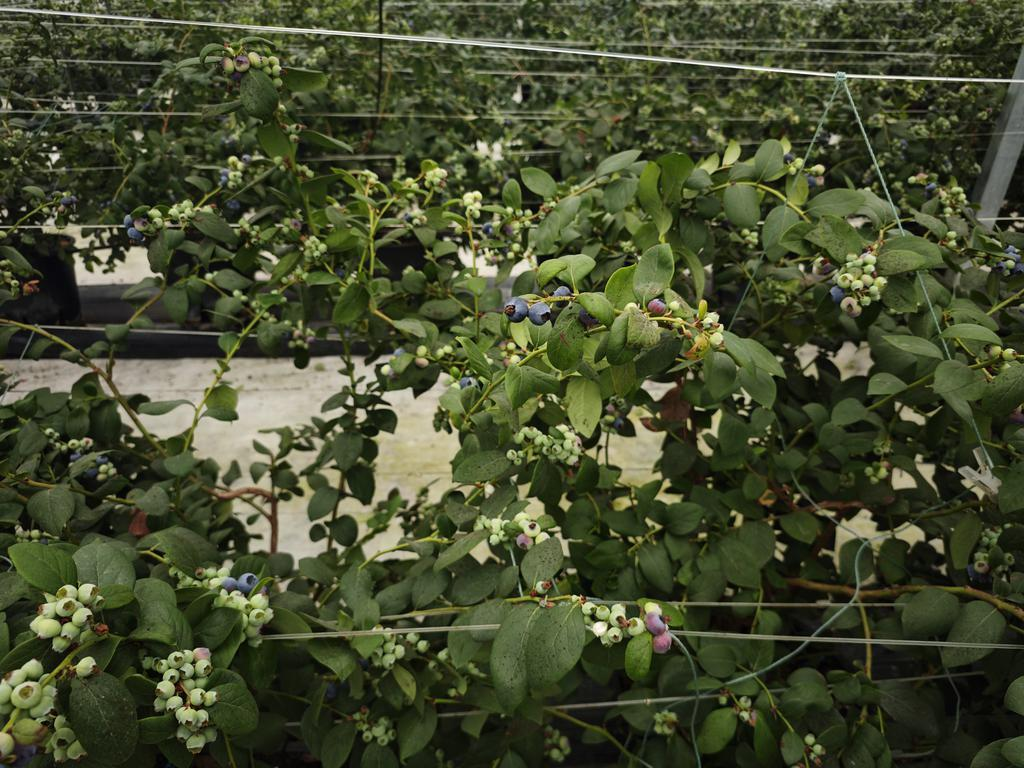RipeBlueBerry: (504, 298, 529, 323), (528, 302, 552, 327), (239, 572, 258, 594)
Semi-RipeBlueBerry: (645, 609, 668, 636), (653, 633, 673, 654)
UnripeBlueBerry: (609, 611, 628, 628)
